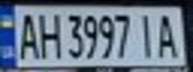3: (63, 10, 84, 60)
7: (112, 10, 136, 60)
9: (97, 11, 118, 60), (81, 10, 100, 58)
A: (151, 10, 184, 60), (15, 9, 42, 60)
H: (36, 8, 63, 60)
I: (136, 10, 160, 60)
